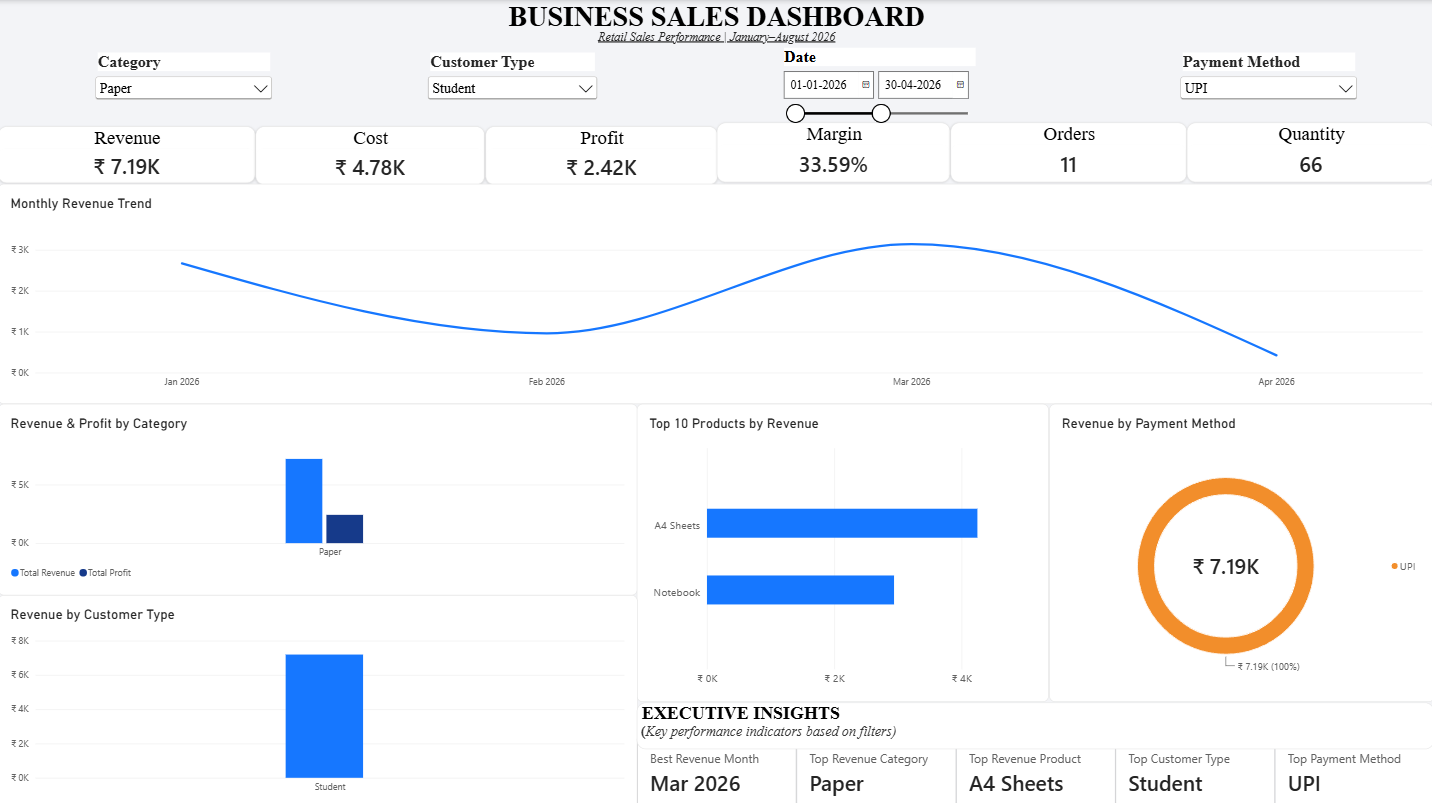

The dashboard page shown, as its layout file describes it:
{"tool":"powerbi","page":{"name":"Page 1","canvas":[1920,1080],"ordinal":0},"visuals":[{"type":"cardVisual","title":"Revenue","fields":{"Data":["sales_data.Total Revenue"]},"box":[0,168,344,76],"z":0},{"type":"cardVisual","title":"Cost","fields":{"Data":["sales_data.Total Cost"]},"box":[344,168,306,78],"z":1000},{"type":"cardVisual","title":"Profit","fields":{"Data":["sales_data.Total Profit"]},"box":[652,168,310,78],"z":2000},{"type":"cardVisual","title":"Margin","fields":{"Data":["sales_data.Profit Margin"]},"box":[960,164,312,80],"z":3000},{"type":"cardVisual","title":"Orders","fields":{"Data":["sales_data.Total Orders"]},"box":[1272,164,316,80],"z":4000},{"type":"cardVisual","title":"Quantity","fields":{"Data":["sales_data.Total Quantity"]},"box":[1588,164,332,80],"z":5000},{"type":"lineChart","title":"Monthly Revenue Trend","fields":{"Category":["sales_data.Month Year"],"Y":["sales_data.Total Revenue"]},"box":[0,246,1920,294],"z":6000},{"type":"clusteredColumnChart","title":"Revenue & Profit by Category","fields":{"Category":["sales_data.Category"],"Y":["sales_data.Total Revenue","sales_data.Total Profit"]},"box":[0,540,854,256],"z":7000},{"type":"clusteredBarChart","title":"Top 10 Products by Revenue","fields":{"Category":["sales_data.Product"],"Y":["sales_data.Total Revenue"]},"box":[854,540,550,398],"z":8000},{"type":"clusteredColumnChart","title":"Revenue by Customer Type","fields":{"Category":["sales_data.Customer_Type"],"Y":["sales_data.Total Revenue"]},"box":[0,794,854,286],"z":9000},{"type":"donutChart","title":"Revenue by Payment Method","fields":{"Category":["sales_data.Payment_Method"],"Y":["sales_data.Total Revenue"]},"box":[1404,540,516,398],"z":10000},{"type":"textbox","box":[0,0,1920,92],"z":11000},{"type":"slicer","fields":{"Values":["sales_data.Category"]},"box":[126,70,246,94],"z":12000},{"type":"slicer","fields":{"Values":["sales_data.Customer_Type"]},"box":[570,70,236,98],"z":13000},{"type":"slicer","fields":{"Values":["sales_data.Payment_Method"]},"box":[1574,70,246,100],"z":14000},{"type":"slicer","fields":{"Values":["sales_data.Date"]},"box":[1042,64,272,140],"z":15000},{"type":"cardVisual","fields":{"Data":["sales_data.Best Revenue Month","sales_data.Top Revenue Category","sales_data.Top Revenue Product","sales_data.Top Customer Type","sales_data.Top Payment Method"]},"box":[854,986,1066,94],"z":16000},{"type":"textbox","box":[854,938,1066,62],"z":17000}]}

Visuals, with their boxes in screenshot pixels (x1, y1, x2, y2), scaled from the page's 1920x1080 canvas onto the 1432x803 screenshot:
"Revenue" cardVisual: bbox=[0, 125, 257, 181]
"Cost" cardVisual: bbox=[257, 125, 485, 183]
"Profit" cardVisual: bbox=[486, 125, 717, 183]
"Margin" cardVisual: bbox=[716, 122, 949, 181]
"Orders" cardVisual: bbox=[949, 122, 1184, 181]
"Quantity" cardVisual: bbox=[1184, 122, 1431, 181]
"Monthly Revenue Trend" lineChart: bbox=[0, 183, 1431, 402]
"Revenue & Profit by Category" clusteredColumnChart: bbox=[0, 402, 637, 592]
"Top 10 Products by Revenue" clusteredBarChart: bbox=[637, 402, 1047, 697]
"Revenue by Customer Type" clusteredColumnChart: bbox=[0, 590, 637, 802]
"Revenue by Payment Method" donutChart: bbox=[1047, 402, 1431, 697]
textbox: bbox=[0, 0, 1431, 68]
slicer - sales_data.Category: bbox=[94, 52, 277, 122]
slicer - sales_data.Customer_Type: bbox=[425, 52, 601, 125]
slicer - sales_data.Payment_Method: bbox=[1174, 52, 1357, 126]
slicer - sales_data.Date: bbox=[777, 48, 980, 152]
cardVisual - sales_data.Best Revenue Month x sales_data.Top Revenue Category: bbox=[637, 733, 1431, 802]
textbox: bbox=[637, 697, 1431, 744]
